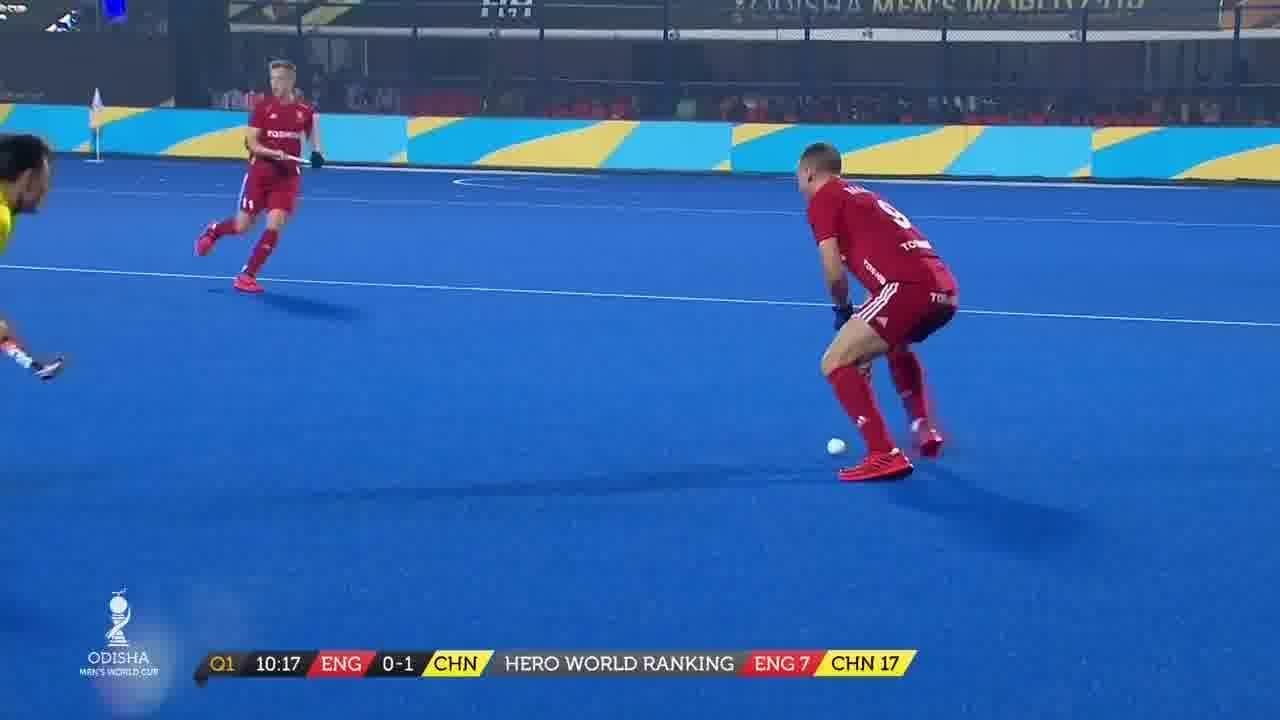ball: (804, 418, 856, 461)
